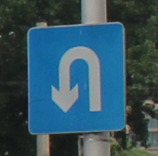u_turn: (27, 22, 126, 134)
